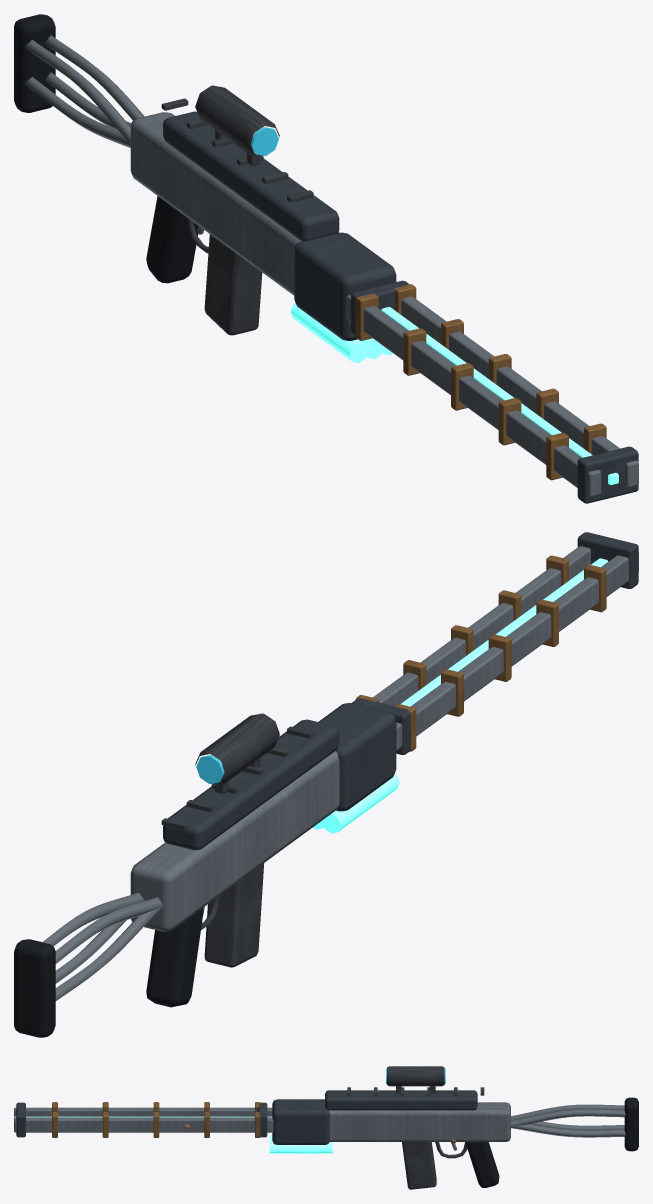
File: railgun.lod2.glb
3 renders of one model, top to bottom at view 1: azimuth 30°, elevation 25°; view 2: azimuth 150°, elevation 25°; view 3: azimuth 270°, elevation 25°, orthographic. The views are drawn at different scales.
Visible parts, largest first — view 1: alloy / machined anodized alloy, ceramic / ceramic composite panel, darksteel / oil-blackened fittings, polymer / stippled polymer, bronze / cast bronze with patina, energy / emissive field channel; view 2: alloy / machined anodized alloy, ceramic / ceramic composite panel, darksteel / oil-blackened fittings, polymer / stippled polymer, bronze / cast bronze with patina, energy / emissive field channel; view 3: alloy / machined anodized alloy, ceramic / ceramic composite panel, darksteel / oil-blackened fittings, polymer / stippled polymer, bronze / cast bronze with patina, energy / emissive field channel.
Part boxes in pixels (<box>): alloy / machined anodized alloy: <box>24,35,638,496</box>; ceramic / ceramic composite panel: <box>163,111,638,503</box>; darksteel / oil-blackened fittings: <box>161,85,313,335</box>; polymer / stippled polymer: <box>14,14,198,283</box>; bronze / cast bronze with patina: <box>355,284,606,480</box>; energy / emissive field channel: <box>290,303,618,484</box>; alloy / machined anodized alloy: <box>42,546,638,1000</box>; ceramic / ceramic composite panel: <box>163,532,638,850</box>; darksteel / oil-blackened fittings: <box>161,713,313,967</box>; polymer / stippled polymer: <box>14,908,203,1037</box>; bronze / cast bronze with patina: <box>355,555,606,751</box>; energy / emissive field channel: <box>313,558,608,833</box>; alloy / machined anodized alloy: <box>14,1102,625,1150</box>; ceramic / ceramic composite panel: <box>16,1090,477,1144</box>; darksteel / oil-blackened fittings: <box>347,1066,484,1189</box>; polymer / stippled polymer: <box>466,1097,638,1187</box>; bronze / cast bronze with patina: <box>52,1102,260,1137</box>; energy / emissive field channel: <box>14,1116,332,1153</box>.
Size of the model in its own units: 0.072 by 0.2744 by 1.29.
8 materials, 5 textured.
